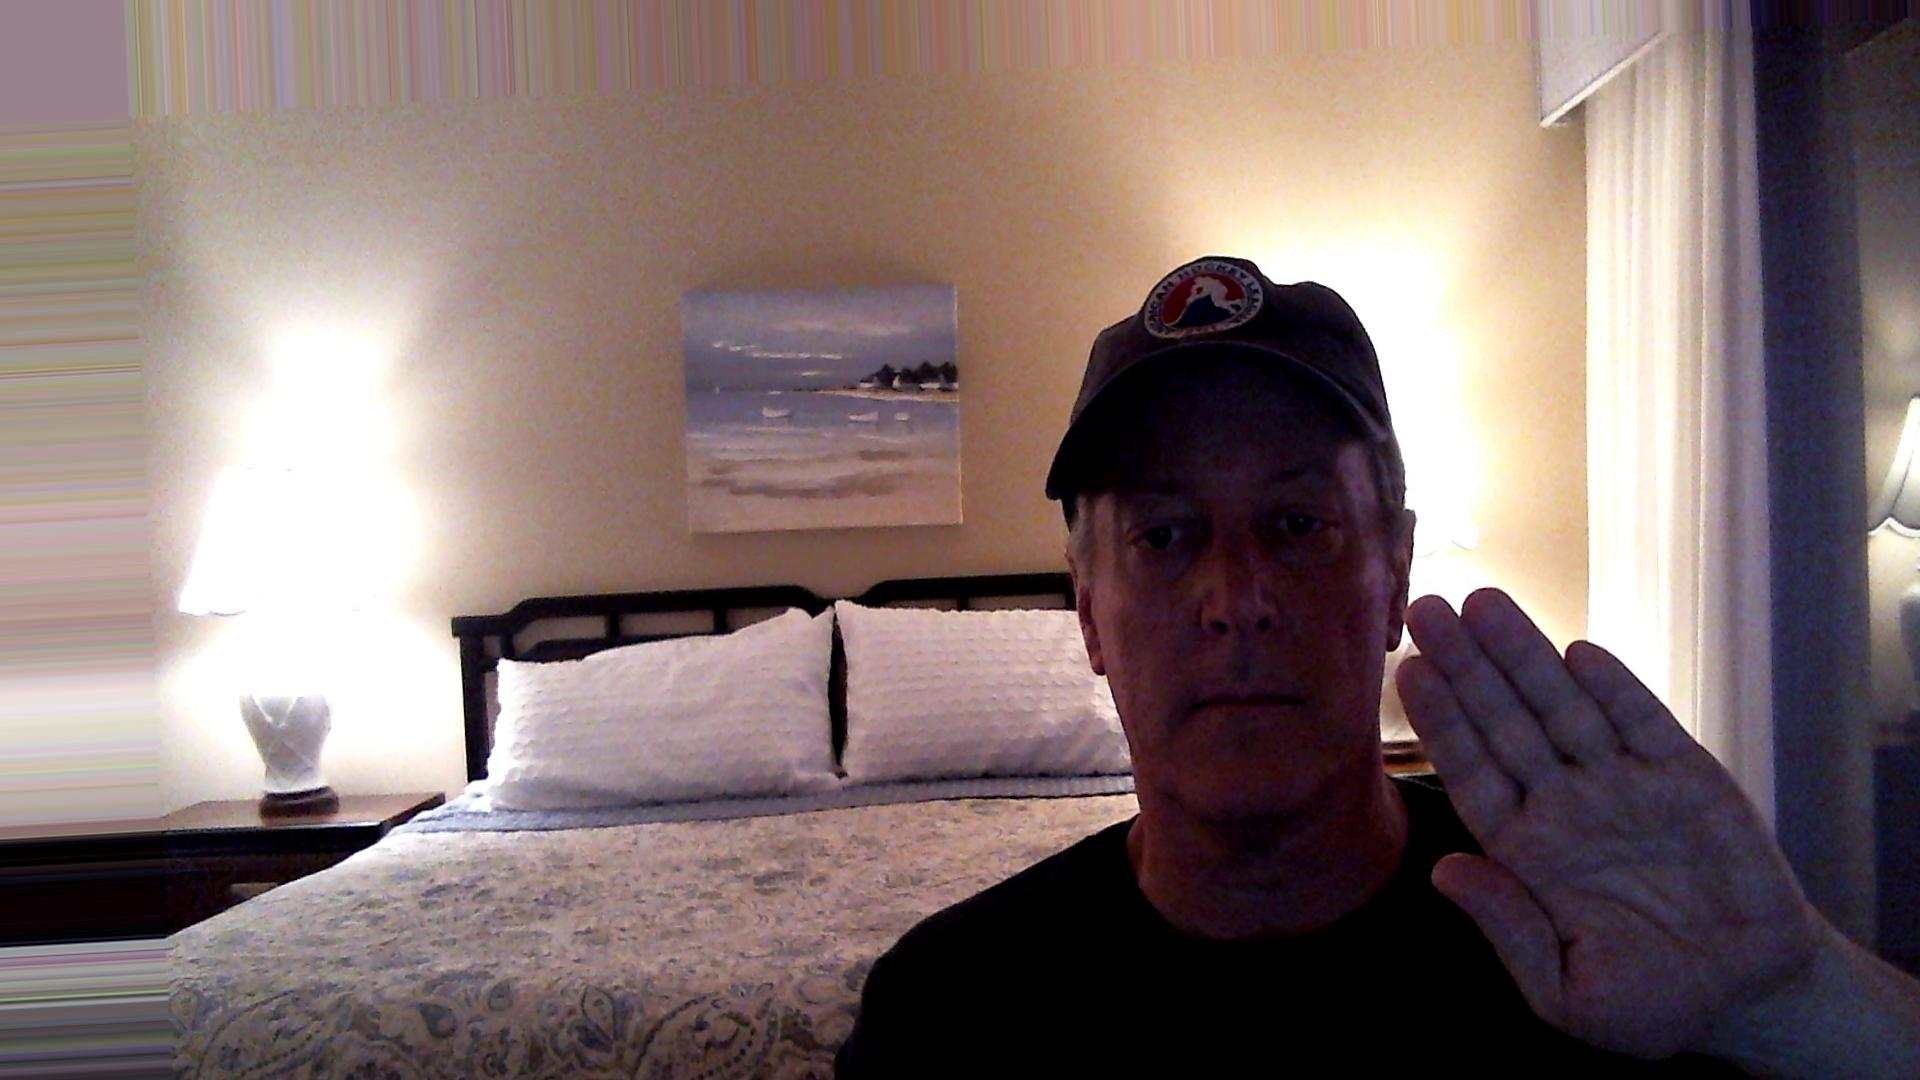Hello: (1381, 570, 1837, 1072)
